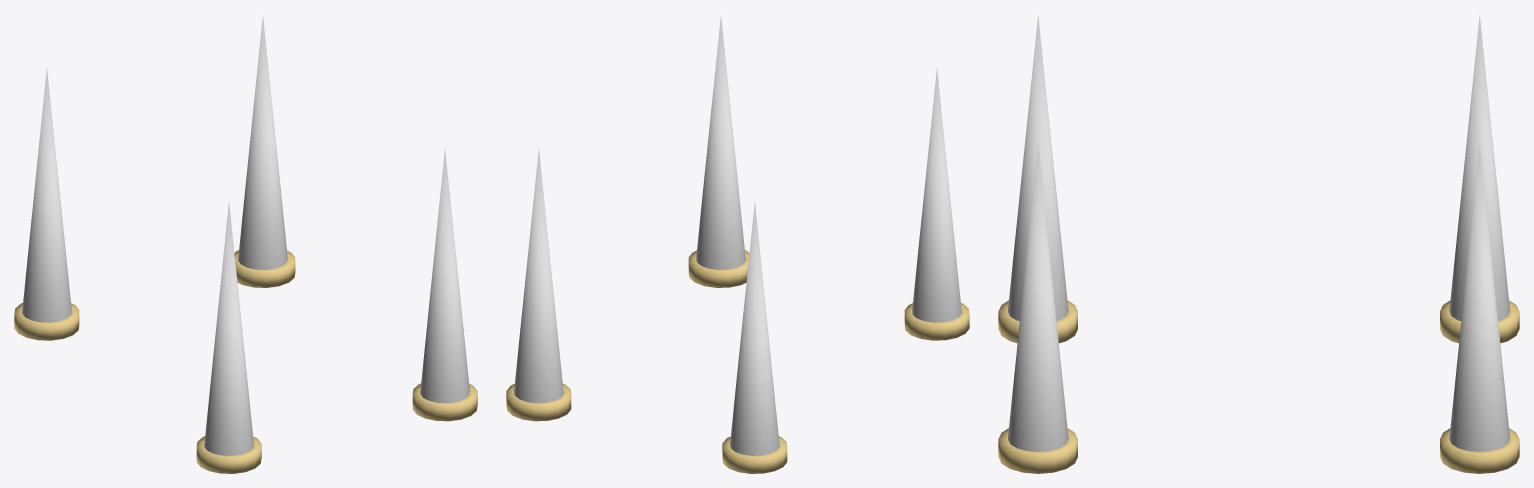
The model's file is Spike_v2.fbx.
The picture shows the model from 3 angles, left to right: view 1: azimuth 30°, elevation 25°; view 2: azimuth 150°, elevation 25°; view 3: azimuth 270°, elevation 25°; orthographic projection. The views are drawn at different scales.
Parts seen in each view (by area): view 1: Cylinder.005; view 2: Cylinder.005; view 3: Cylinder.005.
Part boxes in pixels (<box>): Cylinder.005: <box>14,15,477,473</box>; Cylinder.005: <box>506,15,969,473</box>; Cylinder.005: <box>998,15,1519,473</box>.
Bounding box in the file's own units: 96 × 87.5 × 131.
